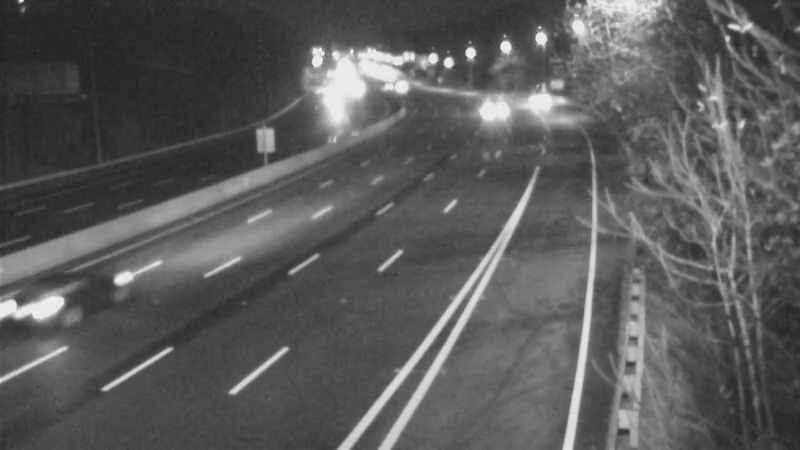vehicle: (1, 254, 98, 364), (508, 77, 558, 127), (466, 85, 516, 135)
